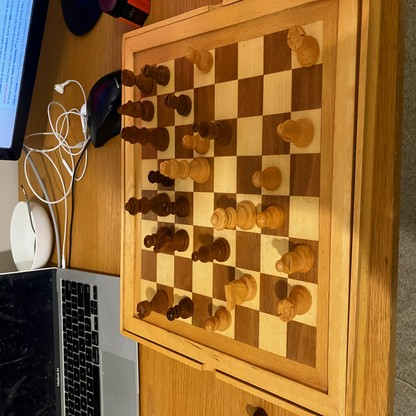bishop_black: (192, 239, 230, 264), (193, 122, 233, 145)
bishop_white: (276, 244, 314, 272), (278, 119, 314, 147)
king_black: (121, 126, 169, 152)
king_white: (159, 157, 210, 181)
knight_black: (154, 230, 189, 251), (116, 102, 155, 120)
knight_white: (225, 275, 256, 309)
pawn_black: (166, 297, 194, 320), (164, 95, 192, 116), (143, 227, 171, 248), (143, 65, 170, 85), (163, 199, 190, 218)
pawn_white: (256, 204, 284, 229), (252, 167, 282, 190), (186, 47, 213, 72), (205, 309, 232, 331), (182, 134, 210, 155)
queen_black: (125, 193, 169, 215)
queen_white: (211, 201, 257, 230)
rock_black: (137, 289, 169, 319), (121, 70, 152, 94)
rock_white: (287, 25, 319, 67), (278, 286, 312, 323)
